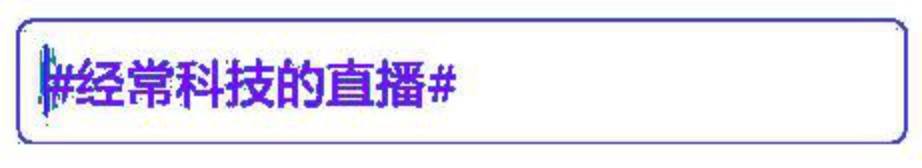EditText: (1, 1, 921, 167)
